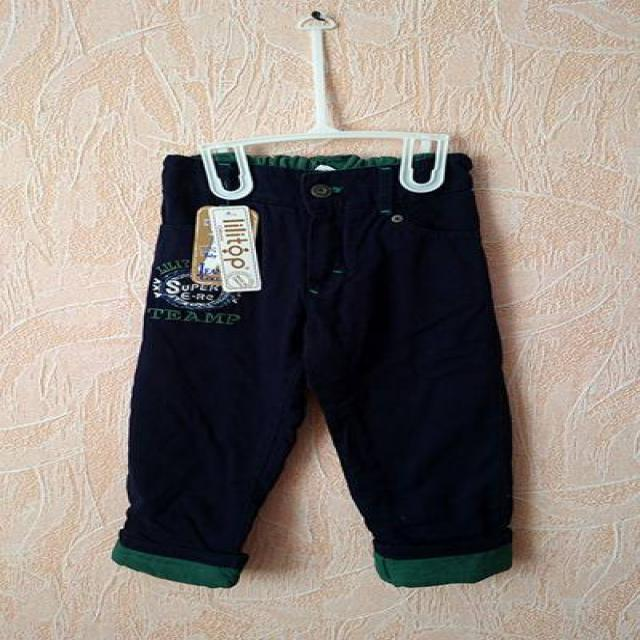Clothes -Biodegradable-: (112, 150, 515, 589)
